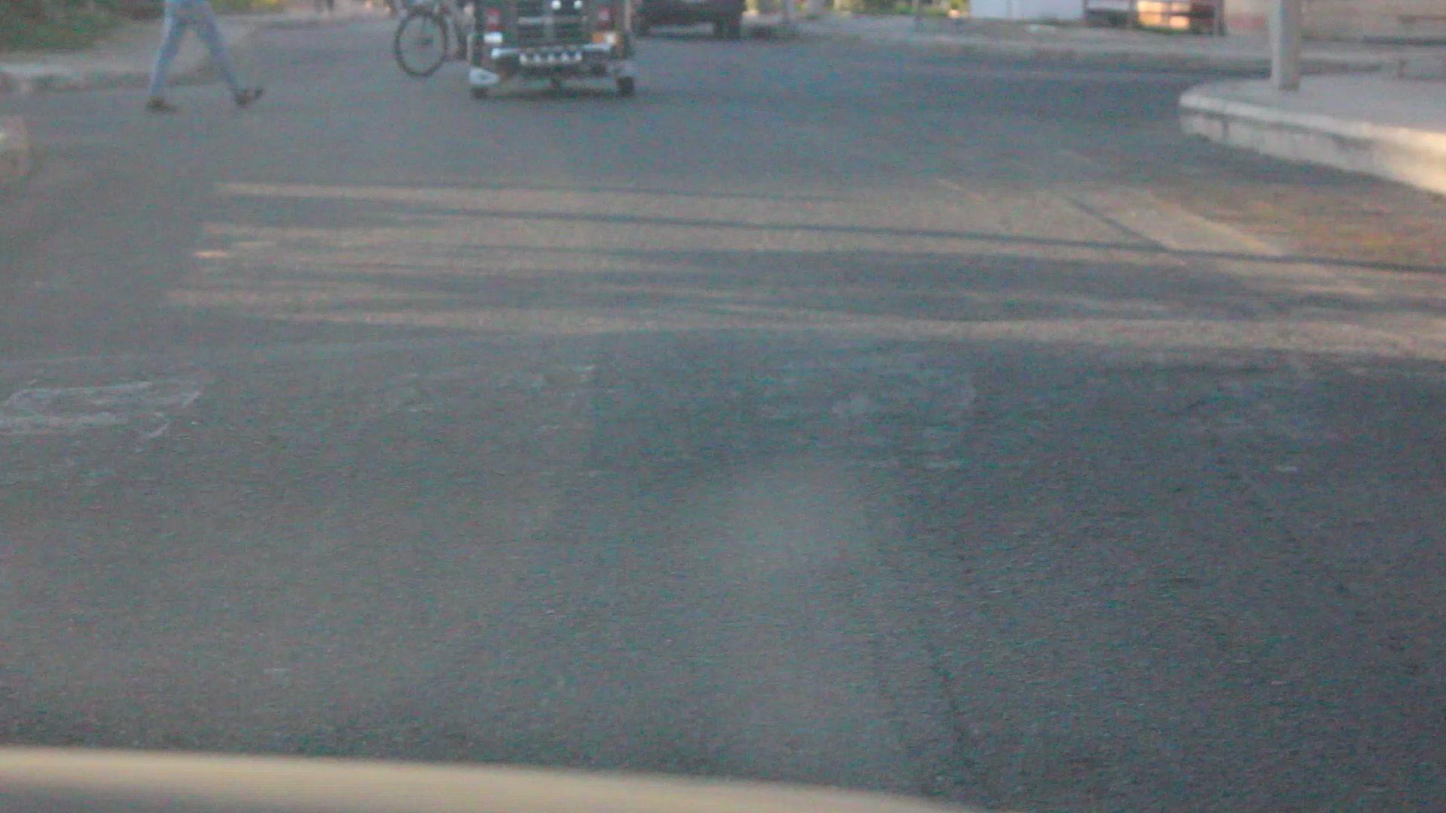Bump: (0, 359, 1446, 489)
